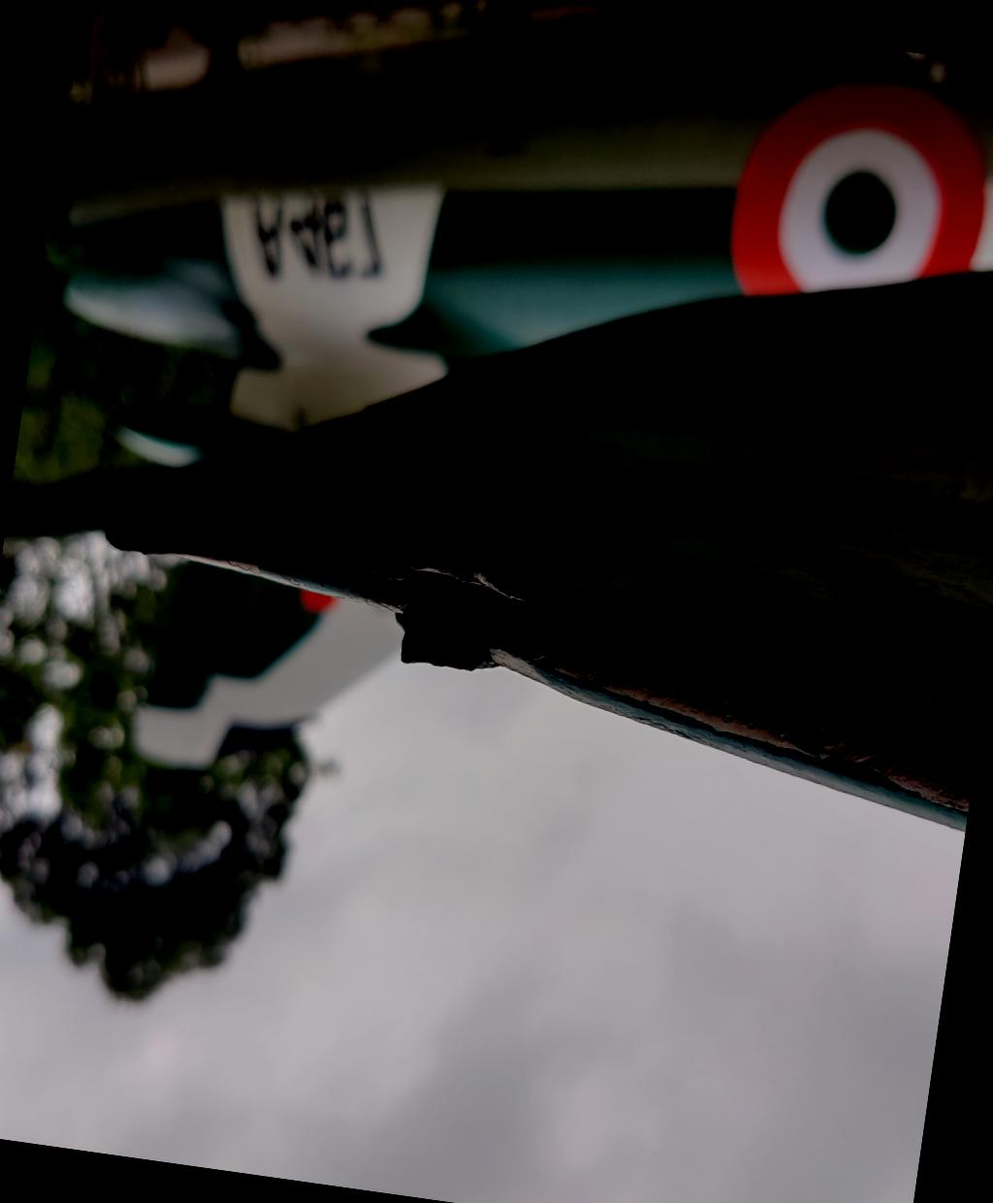crack: (319, 522, 614, 704)
